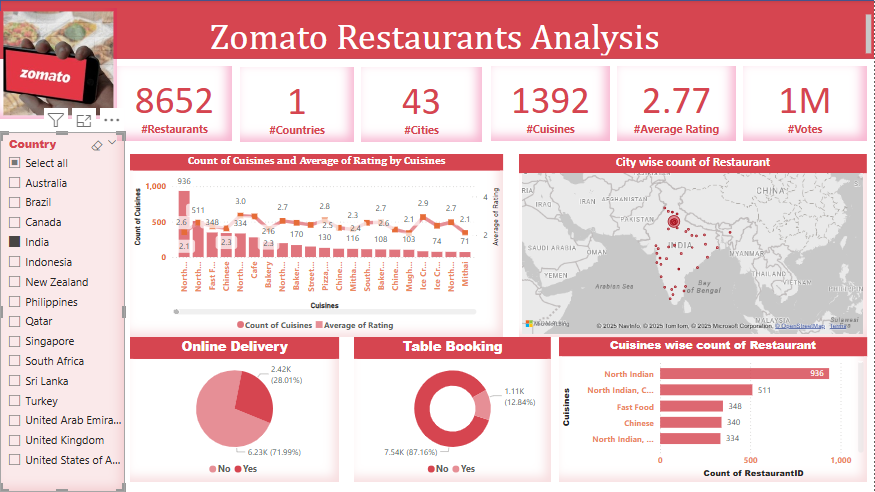

This screenshot's page, from the dashboard's own definition file:
{"tool":"powerbi","page":{"name":"Page 1","canvas":[1280,720],"ordinal":0},"visuals":[{"type":"shape","box":[0,0,1280.5,86.3],"z":0},{"type":"textbox","box":[150,256,300,300],"z":1000},{"type":"textbox","box":[0,16.1,1280.5,70.2],"z":2000},{"type":"image","box":[0,11.7,171.2,162.4],"z":3000},{"type":"card","fields":{"Values":["CountNonNull(Resturants.RestaurantID)"]},"box":[171.2,96.6,168.3,109.8],"z":4000},{"type":"card","fields":{"Values":["Count(Resturants.City)"]},"box":[528.3,98,177.1,109.8],"z":5000},{"type":"card","fields":{"Values":["Count(Resturants.Cuisines)"]},"box":[718.5,96.6,174.1,109.8],"z":6000},{"type":"card","fields":{"Values":["Avg(Resturants.Rating)"]},"box":[902.9,96.6,174.1,109.8],"z":7000},{"type":"card","fields":{"Values":["Sum(Resturants.Votes)"]},"box":[1087.3,96.6,181.5,109.8],"z":8000},{"type":"slicer","fields":{"Values":["Country.country name"]},"box":[0,193.2,182.9,526.8],"z":9000},{"type":"lineStackedColumnComboChart","fields":{"Category":["Resturants.Cuisines"],"Y":["CountNonNull(Resturants.Cuisines)"],"Y2":["Avg(Resturants.Rating)"]},"box":[190.2,225.4,545.9,267.8],"z":10000},{"type":"barChart","title":"Cuisines wise count of Restaurant","fields":{"Y":["CountNonNull(Resturants.RestaurantID)"],"Category":["Resturants.Cuisines"]},"box":[818,493.2,450.7,212.2],"z":11000},{"type":"map","title":"City wise count of Restaurant","fields":{"Category":["Resturants.City"],"Size":["CountNonNull(Resturants.RestaurantID)"]},"box":[759.5,225.4,509.3,267.8],"z":12000},{"type":"pieChart","title":"Online Delivery","fields":{"Category":["Resturants.Has_Online_delivery"],"Y":["CountNonNull(Resturants.RestaurantID)"]},"box":[190.2,493.2,305.9,212.2],"z":13000},{"type":"donutChart","title":"Table Booking","fields":{"Category":["Resturants.Has_Table_booking"],"Y":["CountNonNull(Resturants.RestaurantID)"]},"box":[518,493.2,288.3,212.2],"z":14000},{"type":"card","fields":{"Values":["Count(Country.country name)"]},"box":[351.2,98,166.8,109.8],"z":15000}]}

Visuals, with their boxes in screenshot pixels (x1, y1, x2, y2), scaled from the page's 1280x720 canvas onto the 875x492 screenshot:
shape: (0, 0, 874, 59)
textbox: (103, 175, 308, 380)
textbox: (0, 11, 874, 59)
image: (0, 8, 117, 119)
card - CountNonNull(Resturants.RestaurantID): (117, 66, 232, 141)
card - Count(Resturants.City): (361, 67, 482, 142)
card - Count(Resturants.Cuisines): (491, 66, 610, 141)
card - Avg(Resturants.Rating): (617, 66, 736, 141)
card - Sum(Resturants.Votes): (743, 66, 867, 141)
slicer - Country.country name: (0, 132, 125, 491)
lineStackedColumnComboChart - Resturants.Cuisines x CountNonNull(Resturants.Cuisines): (130, 154, 503, 337)
"Cuisines wise count of Restaurant" barChart: (559, 337, 867, 482)
"City wise count of Restaurant" map: (519, 154, 867, 337)
"Online Delivery" pieChart: (130, 337, 339, 482)
"Table Booking" donutChart: (354, 337, 551, 482)
card - Count(Country.country name): (240, 67, 354, 142)
